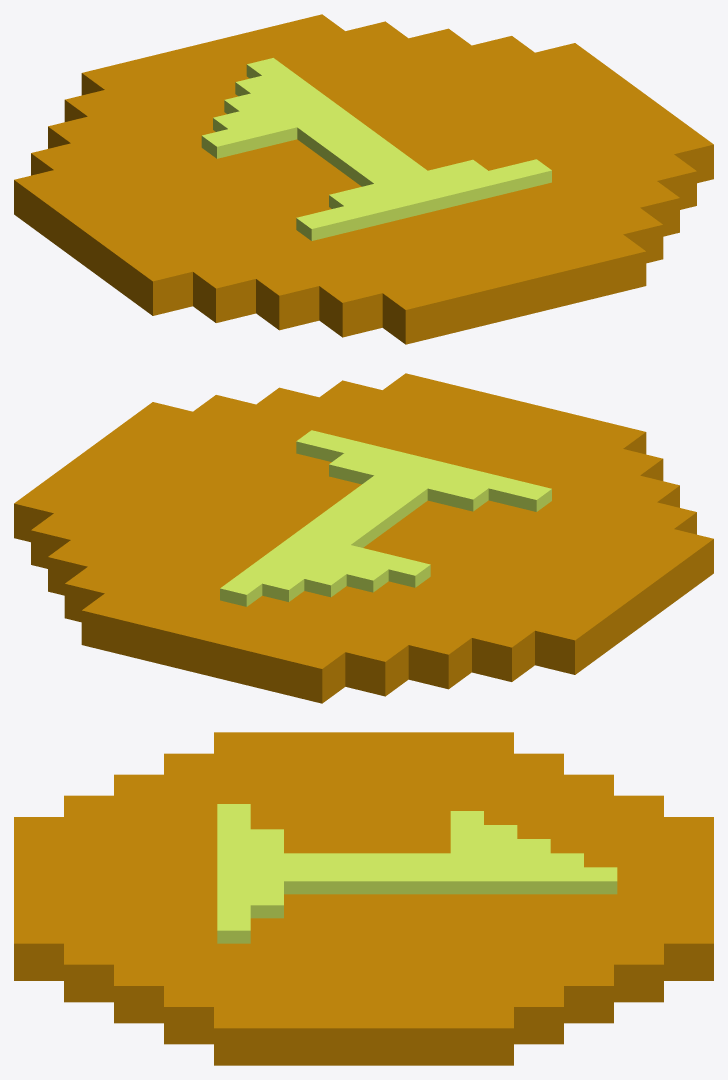
File: coin.FBX
The picture shows the model from 3 angles, top to bottom: view 1: azimuth 30°, elevation 25°; view 2: azimuth 150°, elevation 25°; view 3: azimuth 270°, elevation 25°; orthographic projection. The views are drawn at different scales.
Parts seen in each view (by area): view 1: Box033, Box046; view 2: Box033, Box046; view 3: Box033, Box046.
Boxes of the visible parts, x1,y1,x2,y2 form: Box033: (14, 14, 713, 344); Box046: (201, 58, 551, 240); Box033: (14, 373, 713, 703); Box046: (220, 430, 551, 606); Box033: (14, 732, 713, 1065); Box046: (217, 804, 617, 943).
Bounding box in the file's own units: 21 × 2.1 × 21.
